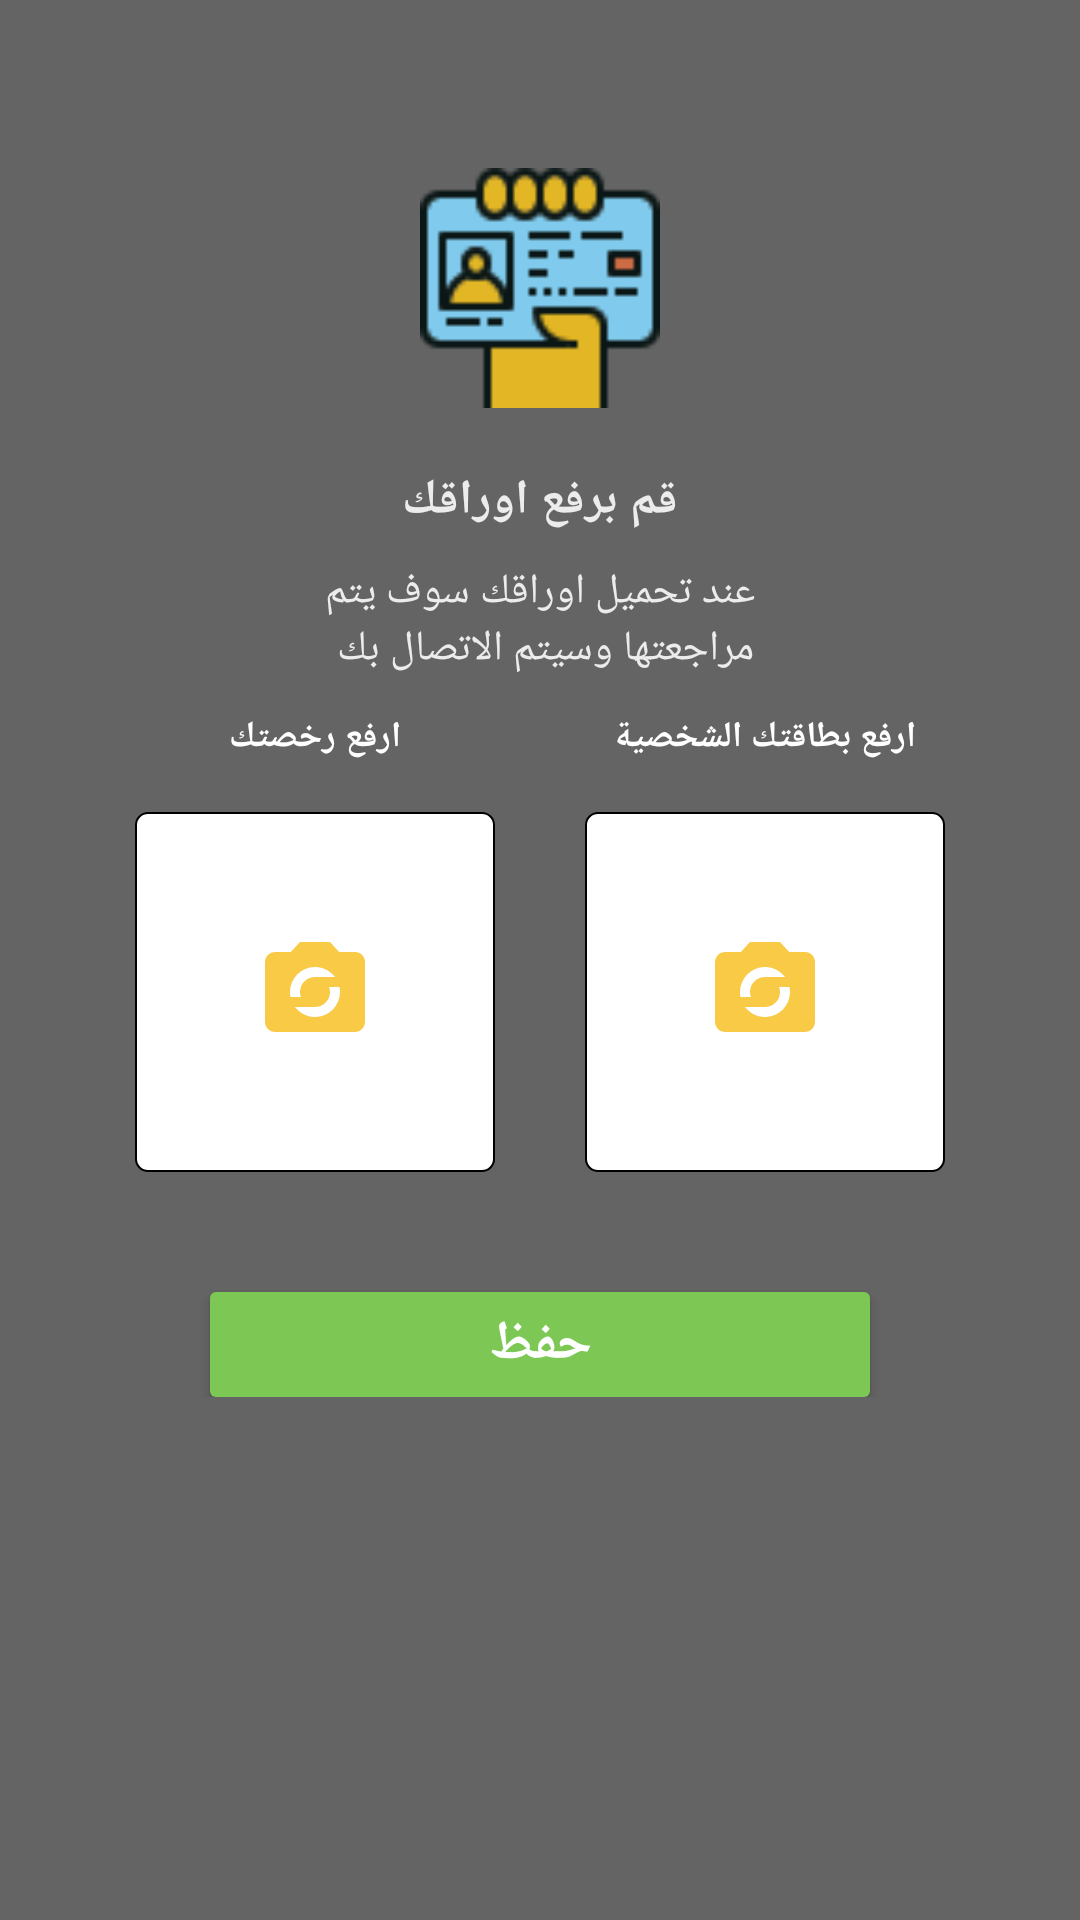

Where icons sit on this 1080×1920 app screen, as (x1, y1, x2, y2):
id card: (420, 168, 660, 408)
